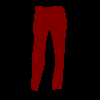pantaloni: (30, 5, 67, 91)
